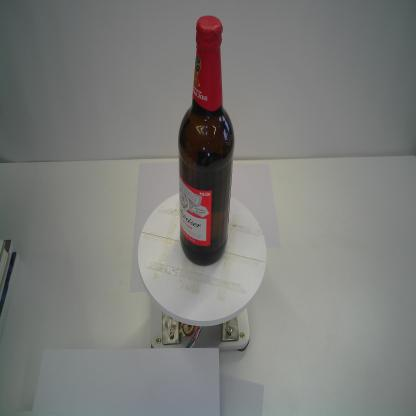Alcohol: (176, 13, 238, 268)
